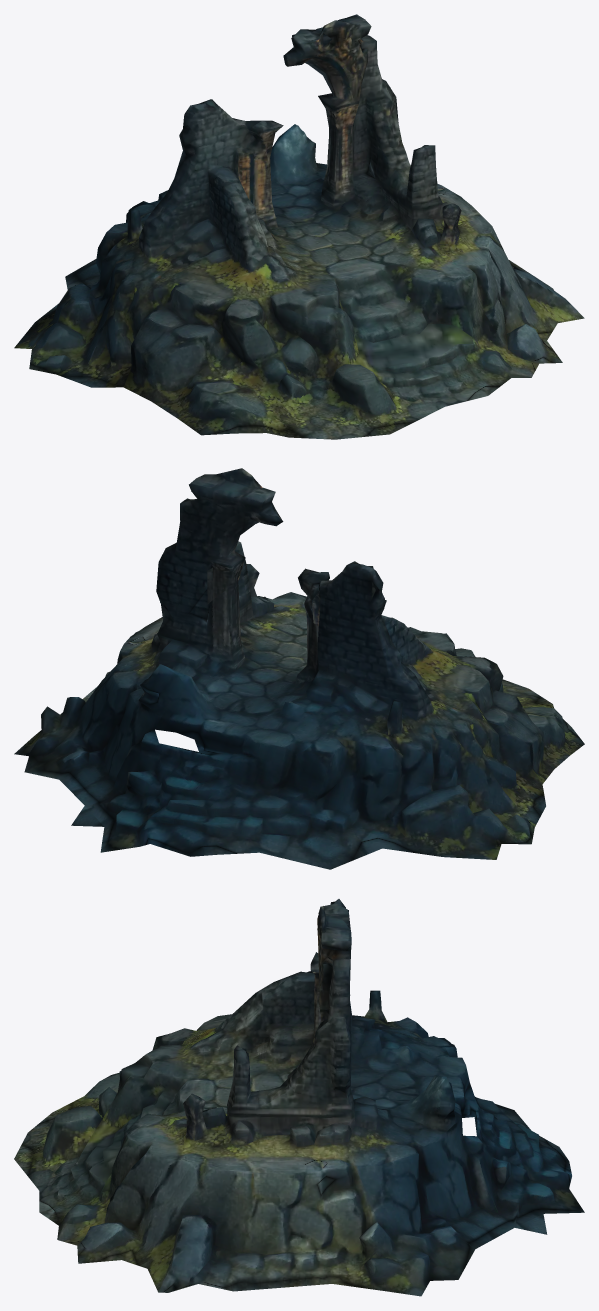
Rendered from haunted-mountain-3.glb.
3 renders of one model, top to bottom at view 1: azimuth 30°, elevation 25°; view 2: azimuth 150°, elevation 25°; view 3: azimuth 270°, elevation 25°, orthographic. The views are drawn at different scales.
Visible parts, largest first — view 1: geometry_0; view 2: geometry_0; view 3: geometry_0.
Boxes of the visible parts, x1,y1,x2,y2 form: geometry_0: (14, 14, 584, 439); geometry_0: (14, 468, 584, 869); geometry_0: (14, 899, 584, 1296).
Bounding box in the file's own units: 0.9153 × 0.5323 × 0.918.
1 material, 1 textured.
